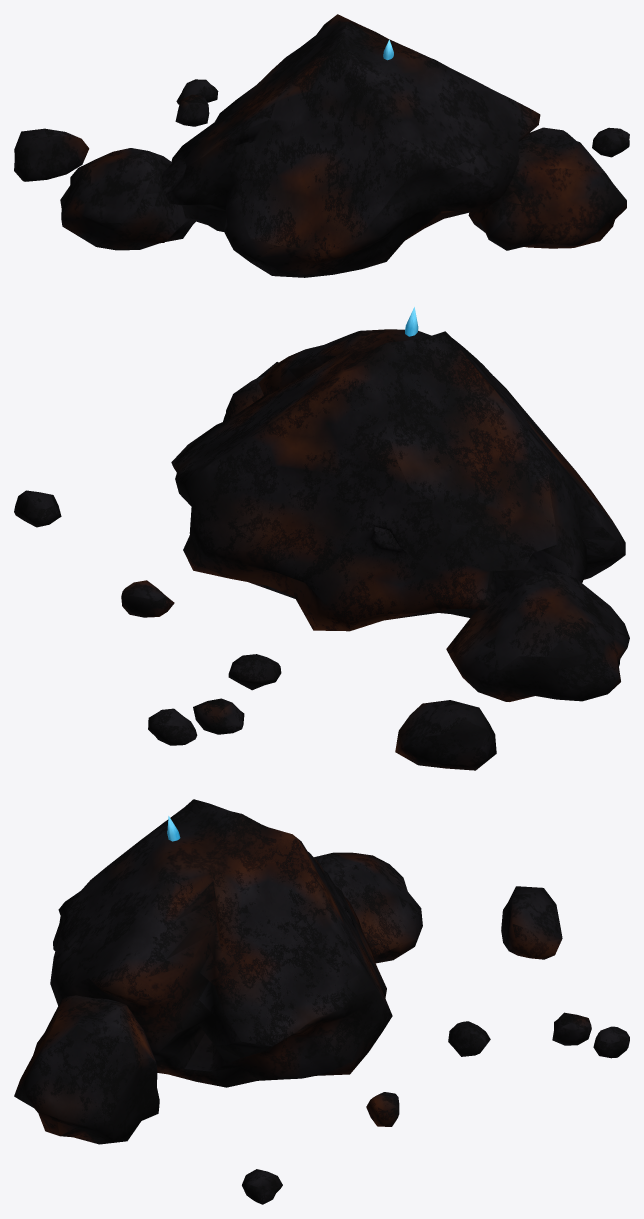
The model's file is meteor_fragment_large.glb.
The picture shows the model from 3 angles, top to bottom: view 1: azimuth 30°, elevation 25°; view 2: azimuth 150°, elevation 25°; view 3: azimuth 270°, elevation 25°; orthographic projection. The views are drawn at different scales.
Visible parts, largest first — view 1: meteor_fragment_large; view 2: meteor_fragment_large; view 3: meteor_fragment_large.
Boxes of the visible parts, bbox=[...] form: meteor_fragment_large: bbox=[14, 14, 629, 277]; meteor_fragment_large: bbox=[14, 307, 629, 770]; meteor_fragment_large: bbox=[14, 799, 629, 1204].
Size of the model in its own units: 6.56 by 2.55 by 5.81.
2 materials, 2 textured.
